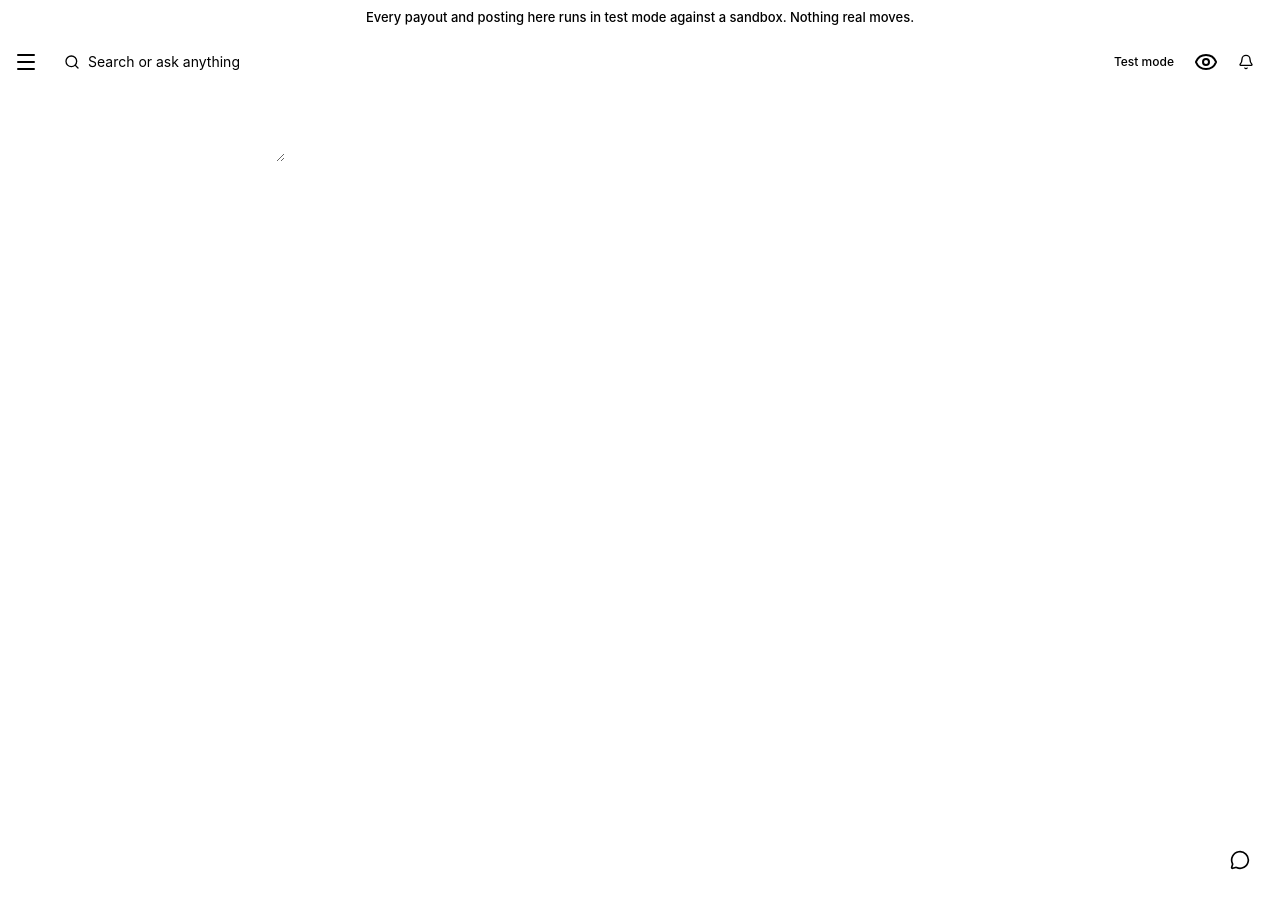
the agent launcher › opens from Ask on Home with the cursor in the card's box, never in a blocked card's reason box
Click the link "Search or ask anything" at point(152, 62), box x1=64 y1=53 x2=240 y2=70
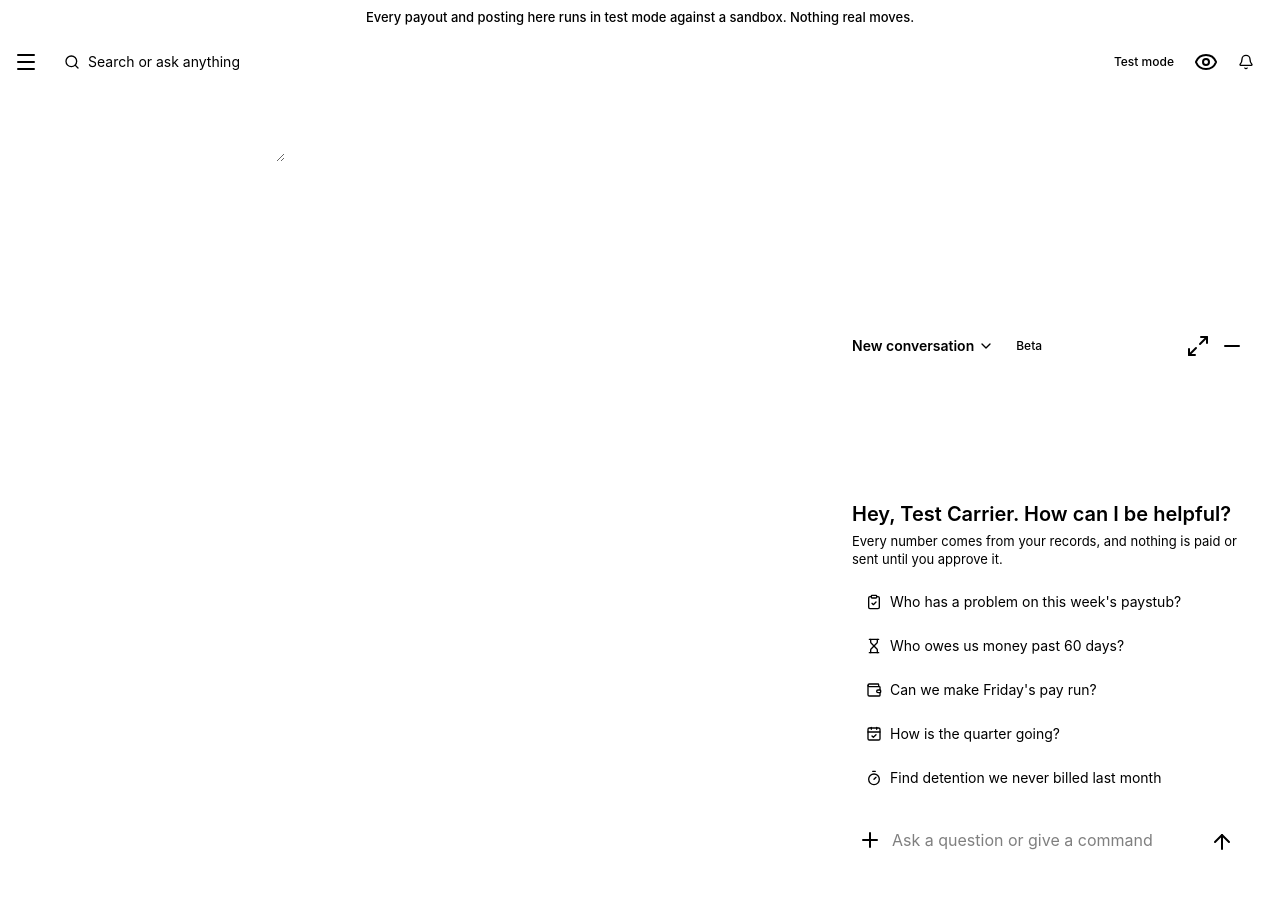
Expected: the heading "Hey, Test Carrier. How can I be helpful?" is shown, x1=852 y1=500 x2=1240 y2=528
